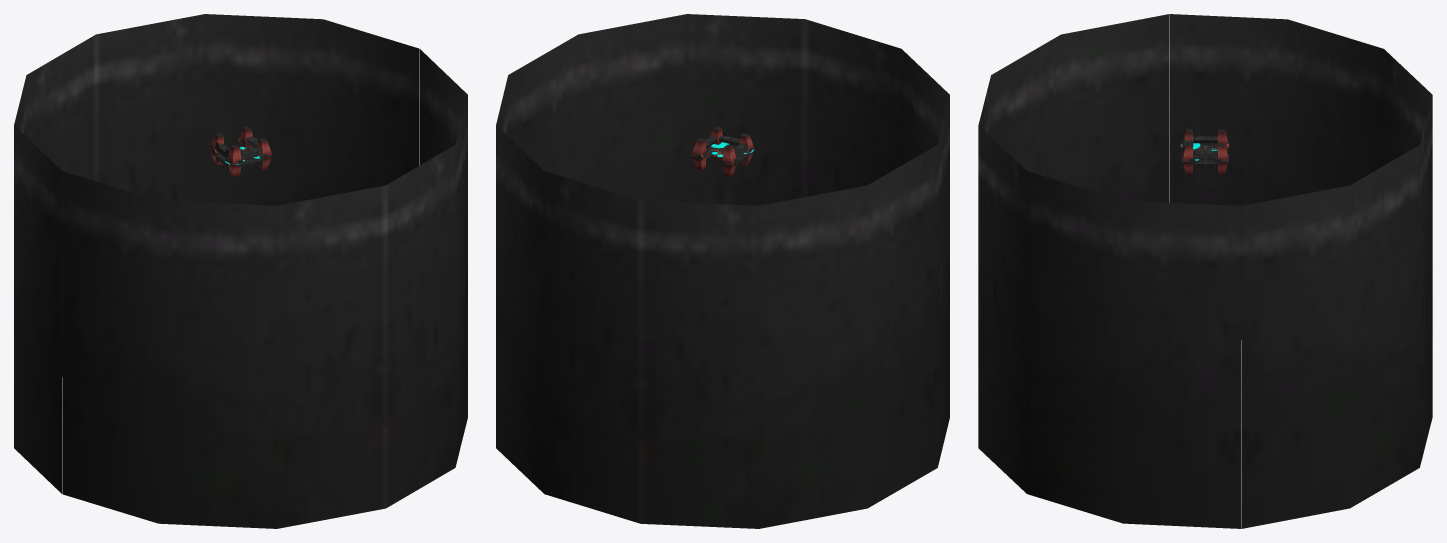
File: env_mala_sith_temple_01_glahsoka_tier03_enc02_pre.glb
3 renders of one model, left to right at view 1: azimuth 30°, elevation 25°; view 2: azimuth 150°, elevation 25°; view 3: azimuth 270°, elevation 25°, orthographic.
Parts seen in each view (by area): view 1: skybox_half_mesh, skybox_half_mesh (2); view 2: skybox_half_mesh (2), skybox_half_mesh; view 3: skybox_half_mesh, skybox_half_mesh (2).
Boxes of the visible parts, x1=… form: skybox_half_mesh: x1=62, y1=49, x2=467, y2=528; skybox_half_mesh (2): x1=14, y1=14, x2=419, y2=493; skybox_half_mesh (2): x1=496, y1=75, x2=937, y2=528; skybox_half_mesh: x1=508, y1=14, x2=949, y2=467; skybox_half_mesh: x1=978, y1=14, x2=1241, y2=528; skybox_half_mesh (2): x1=1169, y1=14, x2=1432, y2=528.
Bounding box in the file's own units: 765 × 600 × 765.
Materials: 8 (8 with a texture image).
